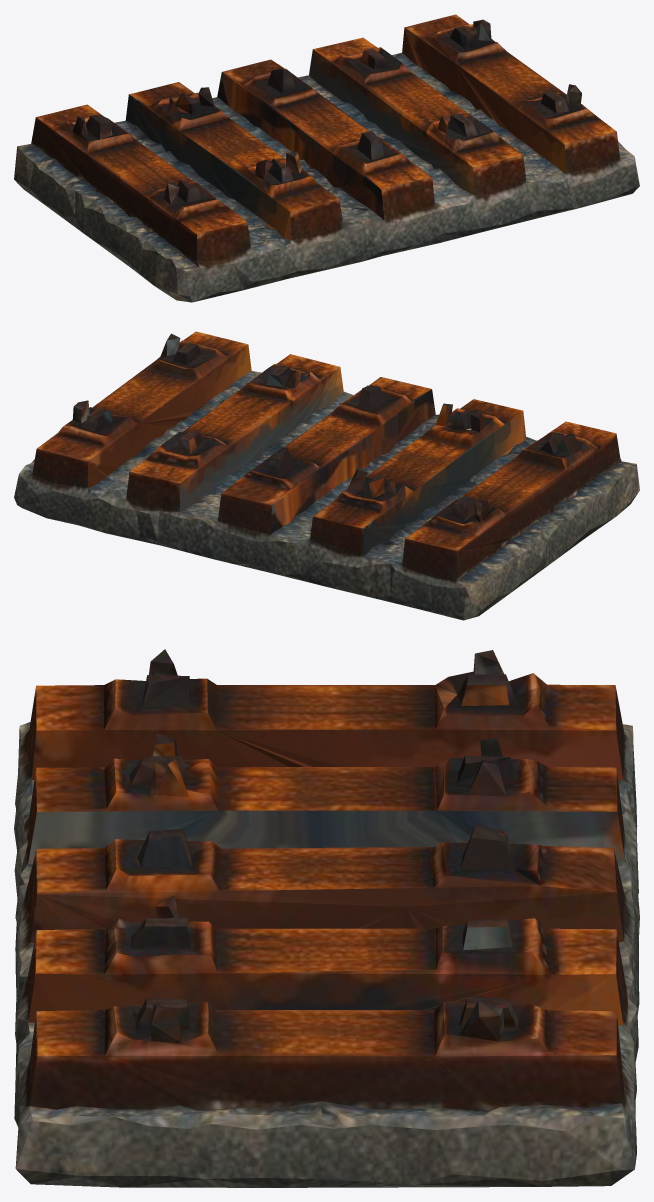
File: rail_ballast_1117.glb
3 renders of one model, top to bottom at view 1: azimuth 30°, elevation 25°; view 2: azimuth 150°, elevation 25°; view 3: azimuth 270°, elevation 25°, orthographic. The views are drawn at different scales.
Visible parts, largest first — view 1: tmpovq71v0l.ply; view 2: tmpovq71v0l.ply; view 3: tmpovq71v0l.ply.
Boxes of the visible parts, x1,y1,x2,y2 form: tmpovq71v0l.ply: [14, 14, 639, 302]; tmpovq71v0l.ply: [14, 331, 639, 620]; tmpovq71v0l.ply: [14, 649, 639, 1187].
Bounding box in the file's own units: 5.47 × 0.9919 × 3.5.
Materials: 1 (1 with a texture image).
